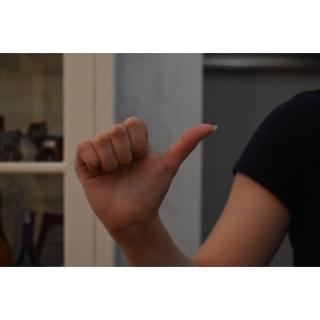DAD: (66, 110, 222, 242)
